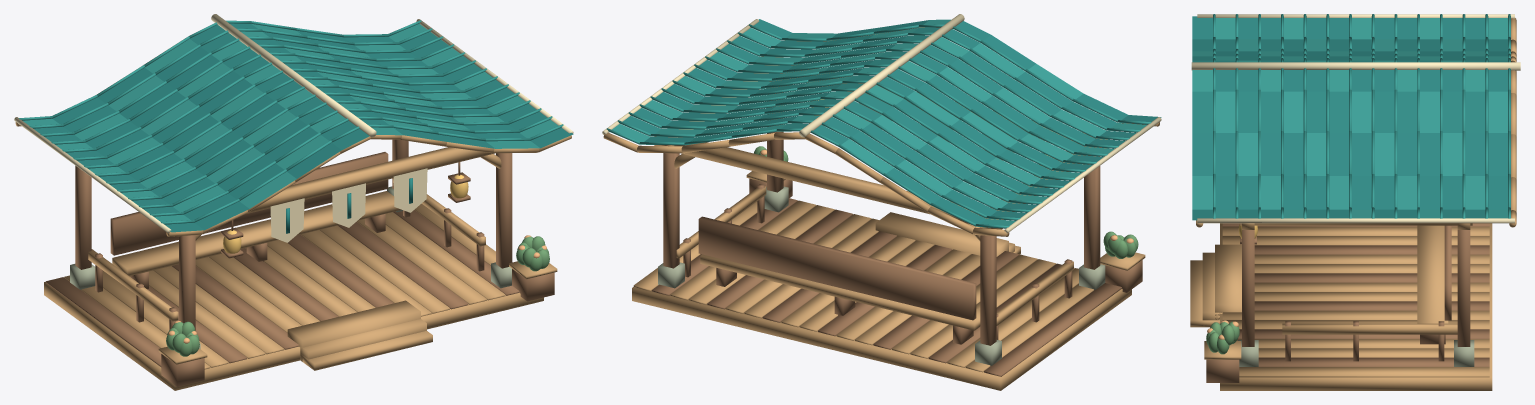
Rendered from meadow-pavilion.glb.
3 renders of one model, left to right at view 1: azimuth 30°, elevation 25°; view 2: azimuth 150°, elevation 25°; view 3: azimuth 270°, elevation 25°, orthographic. The views are drawn at different scales.
Parts seen in each view (by area): view 1: MeadowPavilion.002; view 2: MeadowPavilion.002; view 3: MeadowPavilion.002.
Part boxes in pixels (x1,y1,x2,y2): MeadowPavilion.002: (14,14,573,390); MeadowPavilion.002: (602,14,1161,390); MeadowPavilion.002: (1190,14,1520,390).
Size of the model in its own units: 8.59 by 4.56 by 5.83.
